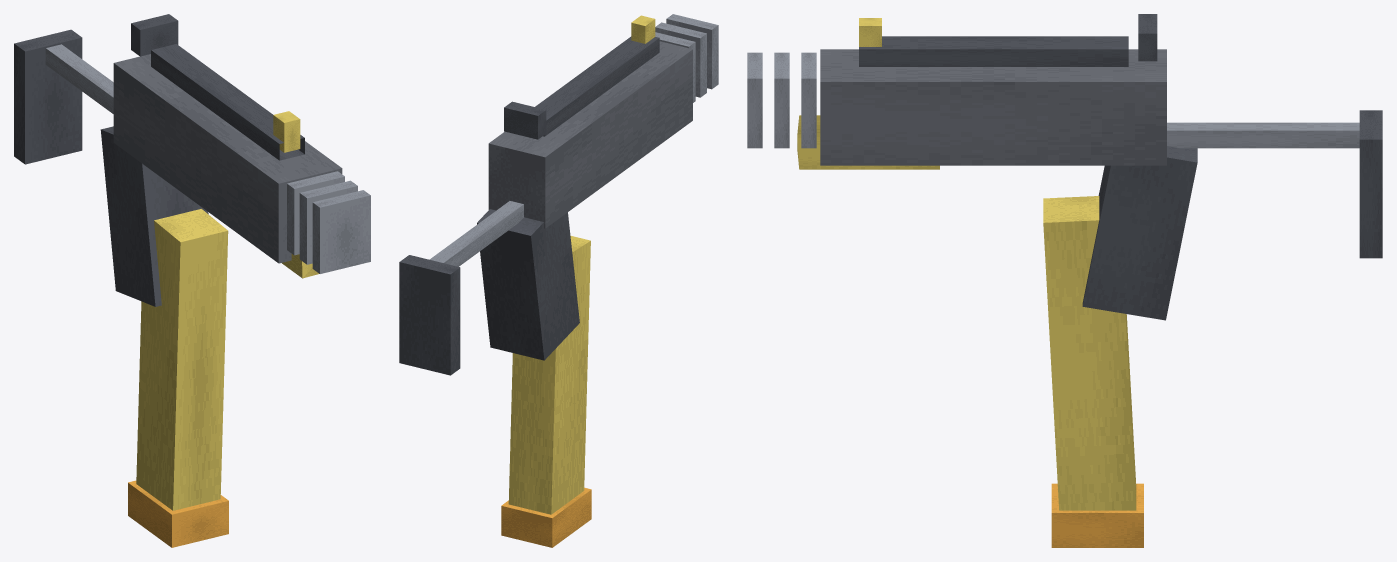
Rendered from weapon_mp.glb.
3 renders of one model, left to right at view 1: azimuth 30°, elevation 25°; view 2: azimuth 150°, elevation 25°; view 3: azimuth 270°, elevation 25°, orthographic. The views are drawn at different scales.
Visible parts, largest first — view 1: weapon_mp; view 2: weapon_mp; view 3: weapon_mp.
Boxes of the visible parts, box(x1,y1,x2,y2) form: weapon_mp: box(14, 14, 370, 547); weapon_mp: box(399, 14, 718, 547); weapon_mp: box(747, 14, 1382, 547).
Bounding box in the file's own units: 0.2 × 1.47 × 1.65.
Materials: 1 (1 with a texture image).
